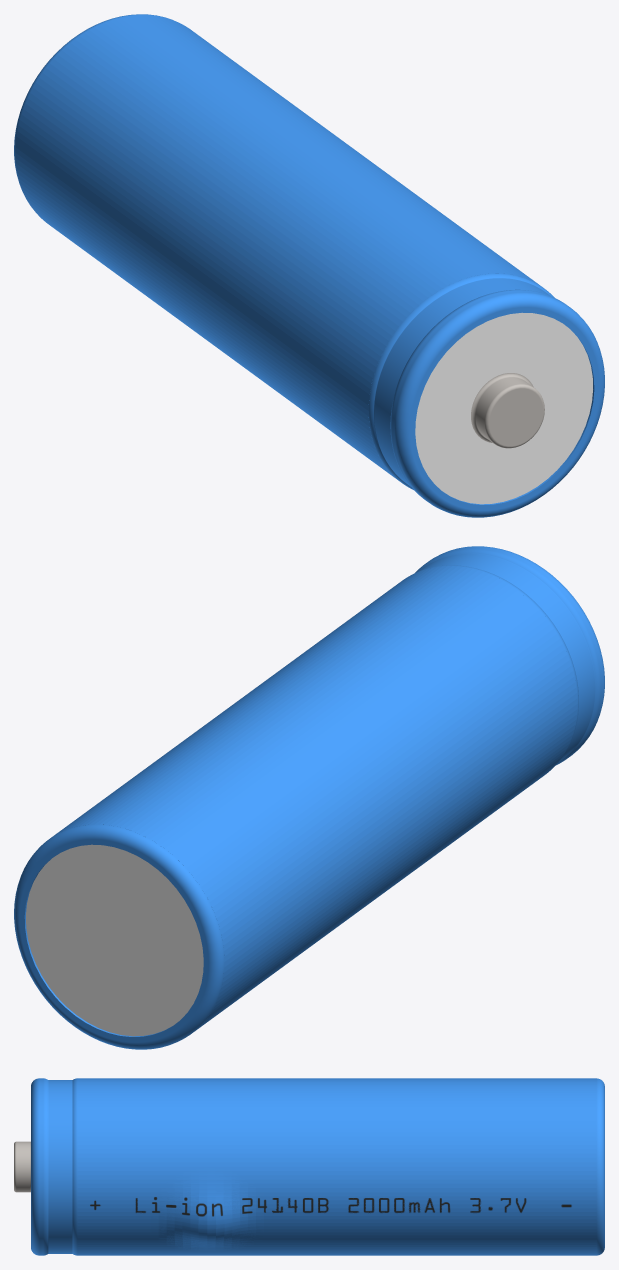
Rendered from defect_1.glb.
3 views of the same model, one above another, from view 1: azimuth 30°, elevation 25°; view 2: azimuth 150°, elevation 25°; view 3: azimuth 270°, elevation 25° (orthographic). The views are drawn at different scales.
Parts seen in each view (by area): view 1: Cylinder, Cell_Top; view 2: Cylinder, Cell_bottom, Cell_Top; view 3: Cylinder, Cell_Top, Cell_bottom.
Part boxes in pixels (x1,y1,x2,y2): Cylinder: (15,15,550,480); Cell_Top: (368,273,604,517); Cylinder: (41,566,577,1031); Cell_bottom: (14,824,224,1049); Cell_Top: (415,546,604,765); Cylinder: (77,1078,596,1255); Cell_Top: (14,1078,77,1255); Cell_bottom: (596,1078,604,1255).
Size of the model in its own units: 0.022 by 0.021 by 0.07.
Materials: 10 (1 with a texture image).
